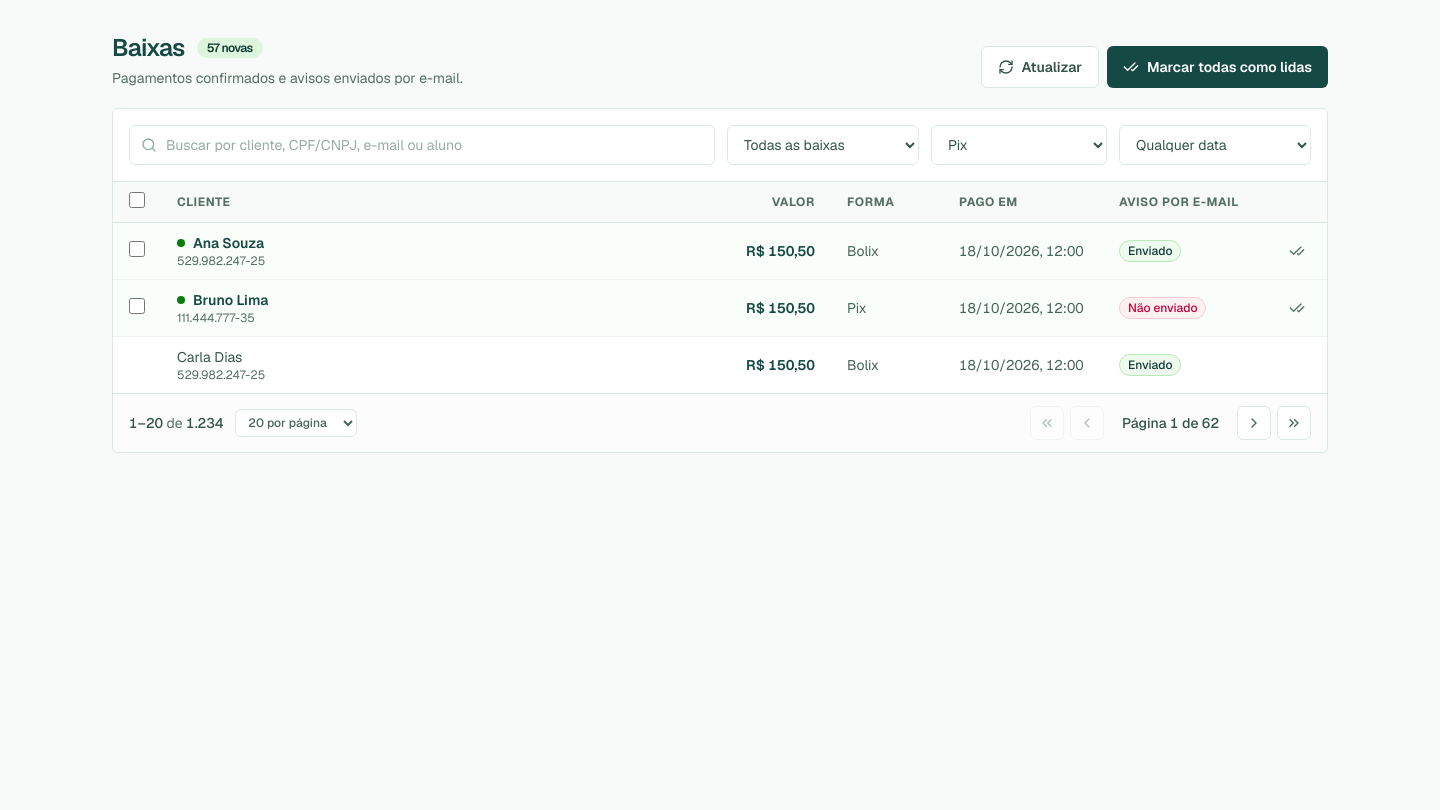
Test: BaixasPage › marks every unread baixa of the filter after confirming the amount
The width and height of the screenshot is (1440, 810).
Expected: the table is shown, [113, 182, 1327, 393]
Click the button "Marcar todas como lidas" at (1218, 67), box [1107, 46, 1328, 88]
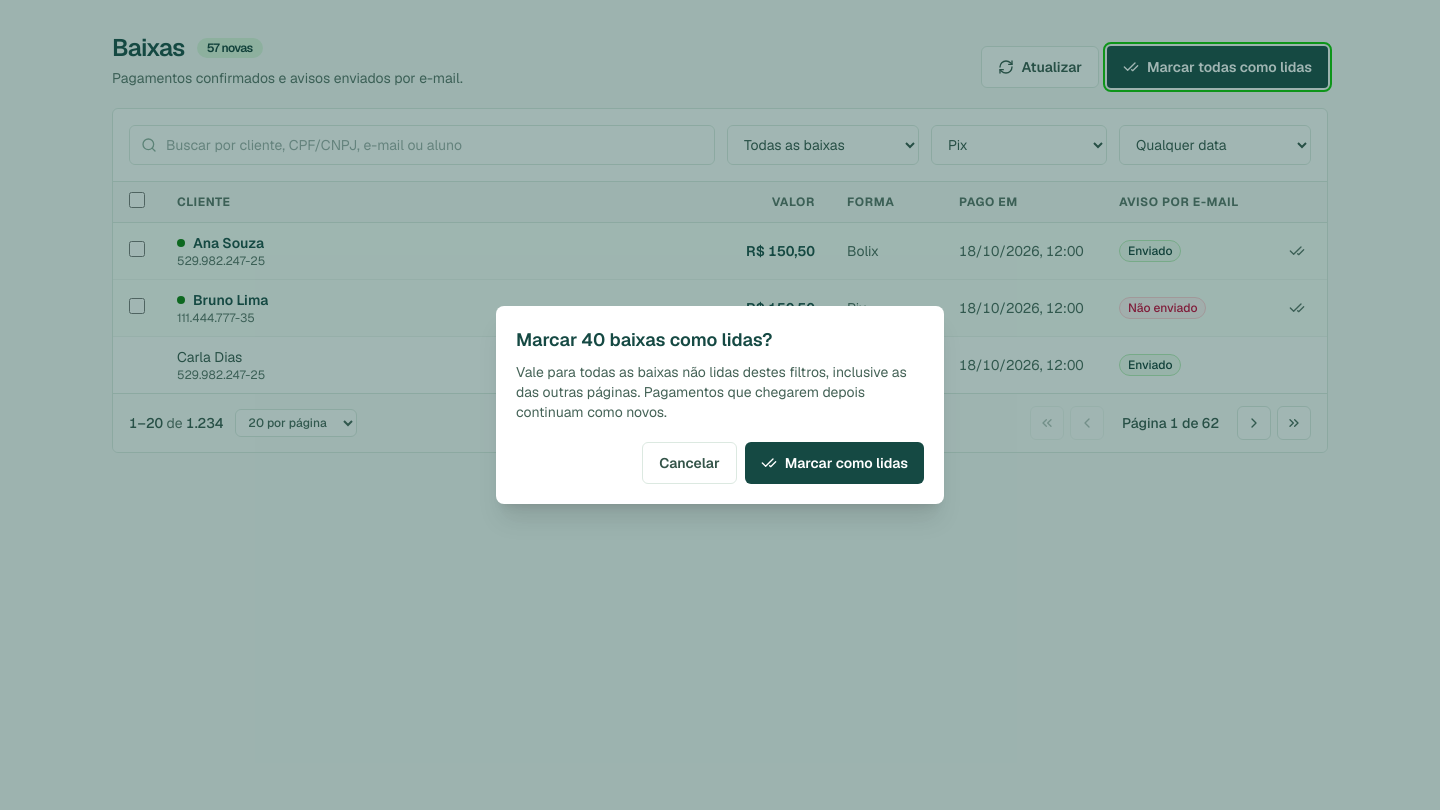
Now the heading "Marcar 40 baixas como lidas?" is shown, box [516, 328, 772, 351]
Click the button "Marcar como lidas" at (834, 463), box [745, 442, 924, 484]
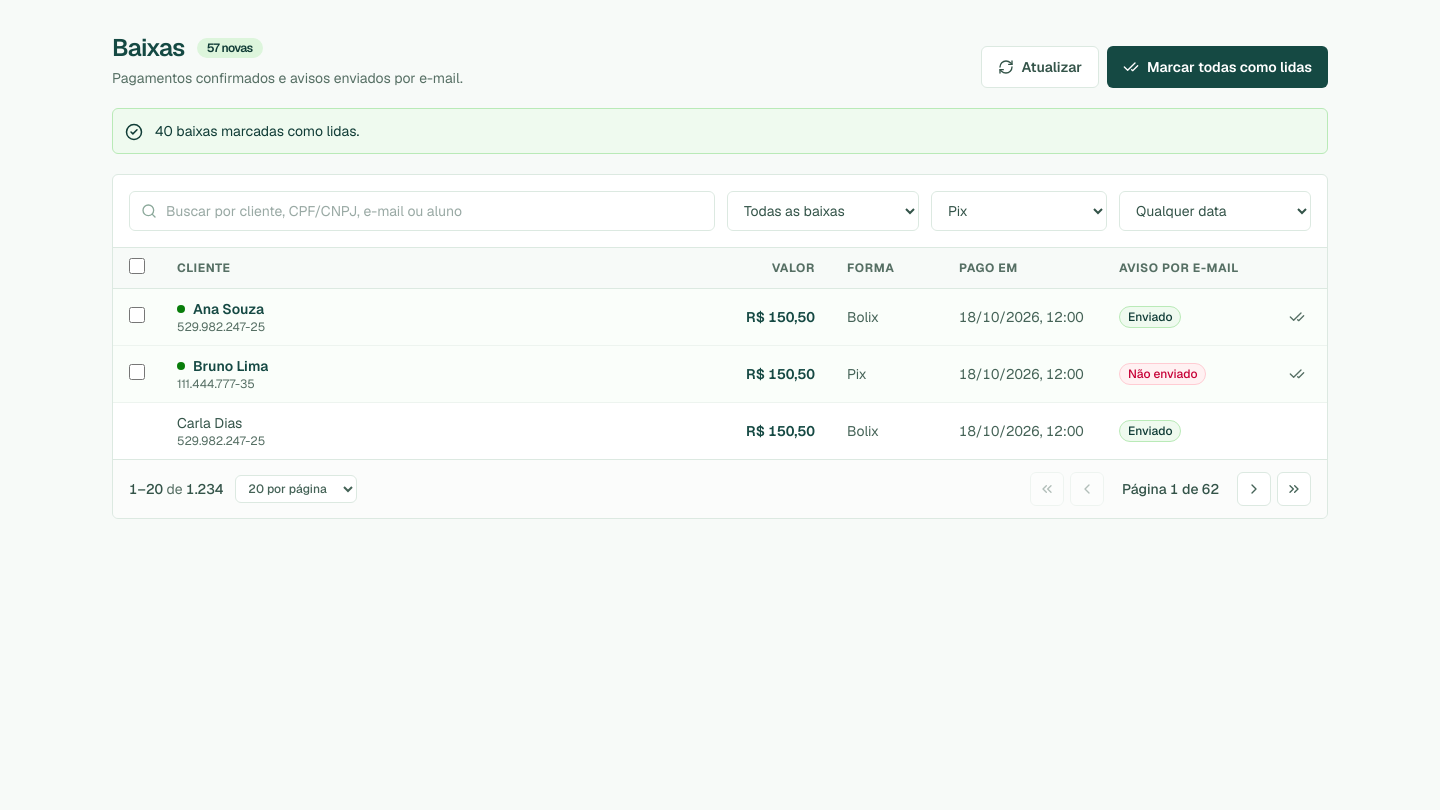
Now the text "40 baixas marcadas como lidas." is shown, box [155, 121, 359, 141]
